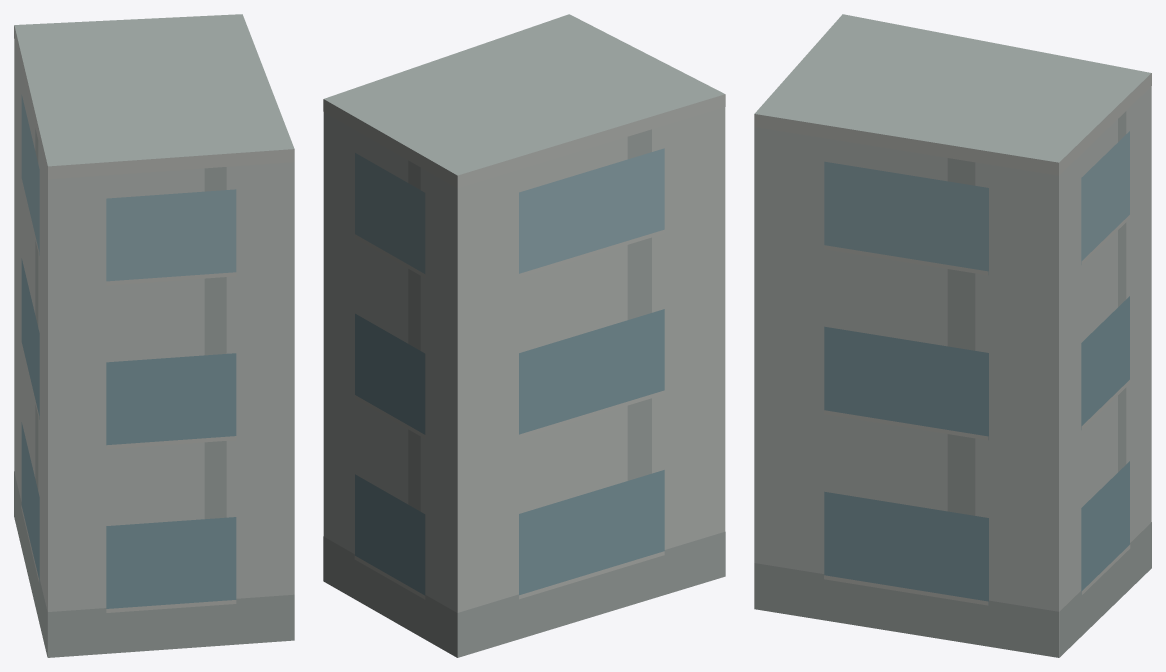
Rendered from survey-upis-32531255.glb.
3 renders of one model, left to right at view 1: azimuth 30°, elevation 25°; view 2: azimuth 150°, elevation 25°; view 3: azimuth 270°, elevation 25°, orthographic. The views are drawn at different scales.
Visible parts, largest first — view 1: survey-upis-32531255.tmp; view 2: survey-upis-32531255.tmp; view 3: survey-upis-32531255.tmp.
Boxes of the visible parts, <box> form: survey-upis-32531255.tmp: <box>14,14,294,657</box>; survey-upis-32531255.tmp: <box>323,14,725,657</box>; survey-upis-32531255.tmp: <box>754,14,1151,657</box>.
Size of the model in its own units: 5.9 by 9.15 by 6.66.
